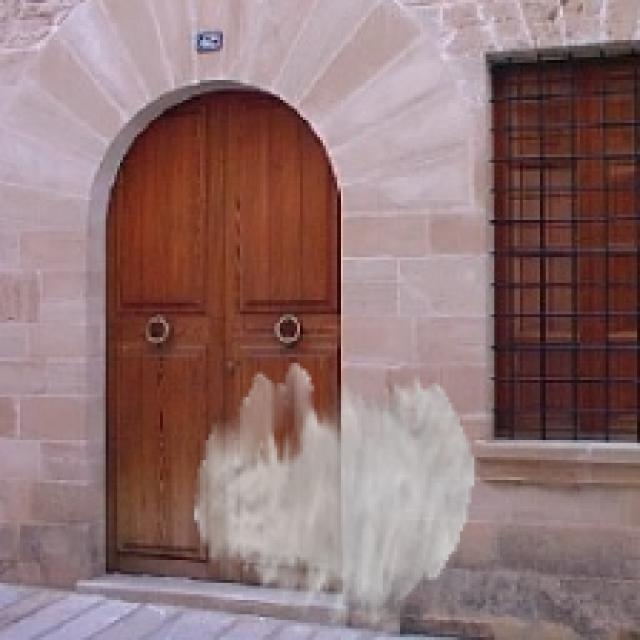smoke: (195, 363, 474, 628)
